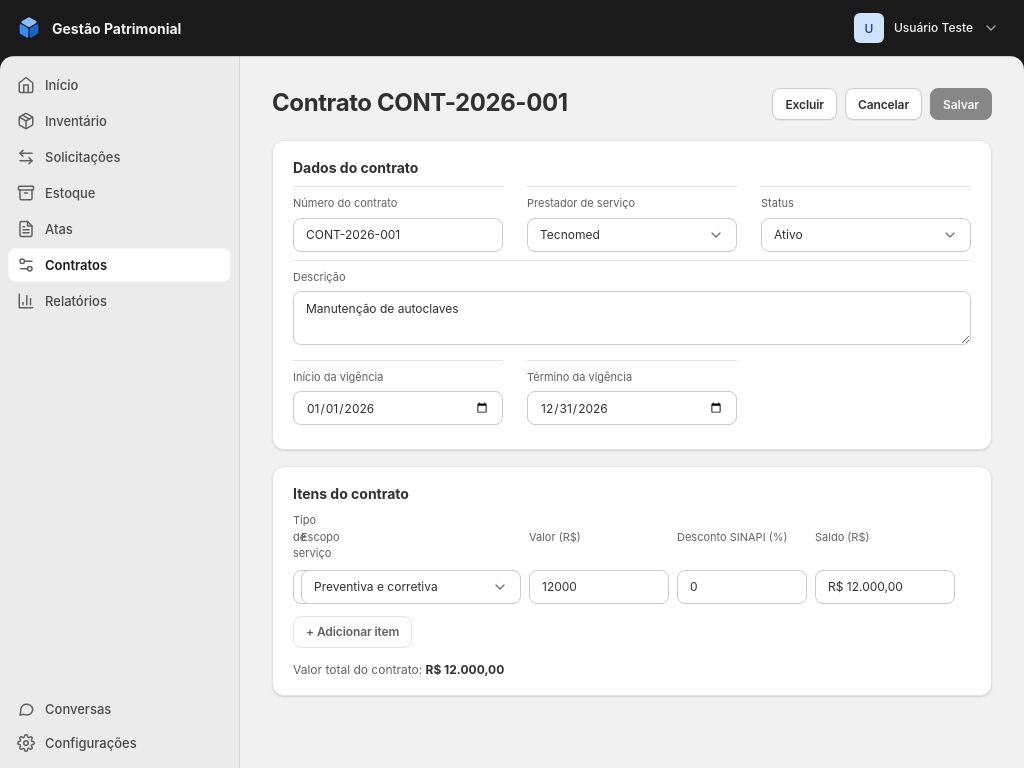
Test: Contratos › o Administrador exclui, e com confirmação
Click the button "Excluir". click: (805,104)
box: [772,88,837,120]
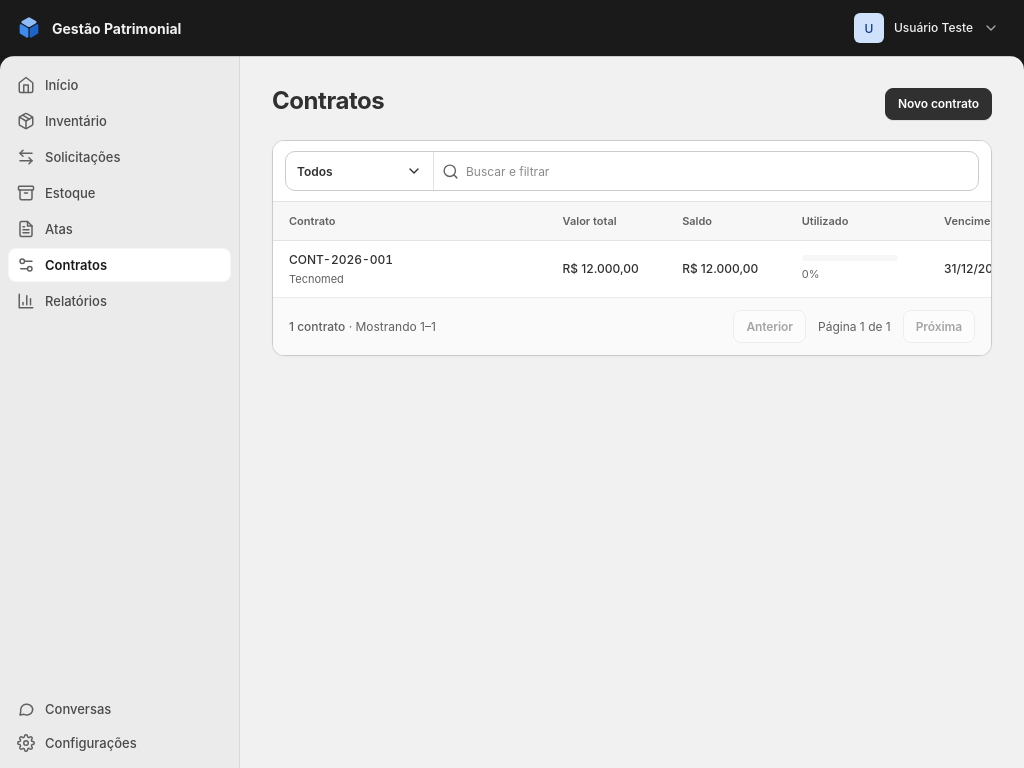
Expected: the heading "Contratos" is shown, [272,88,384,115]
